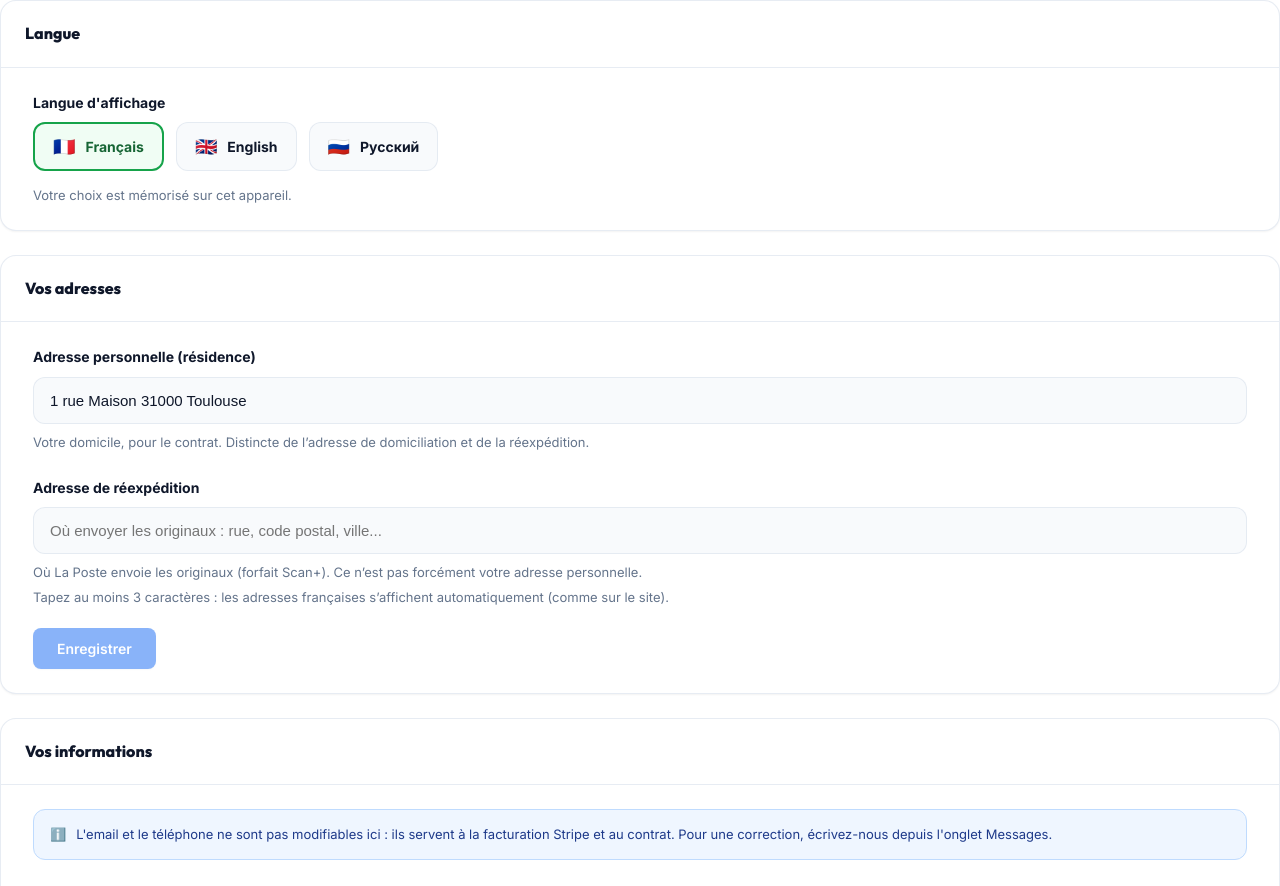
Test case: Paramètres — adresses distinctes › refuse d’enregistrer si le dossier n’est pas encore un client
Type "8 rue Reexp 75001 Paris" into the field with placeholder "Où envoyer les originaux : rue, code postal, ville..." at (640, 530), box [33,507,1247,554]
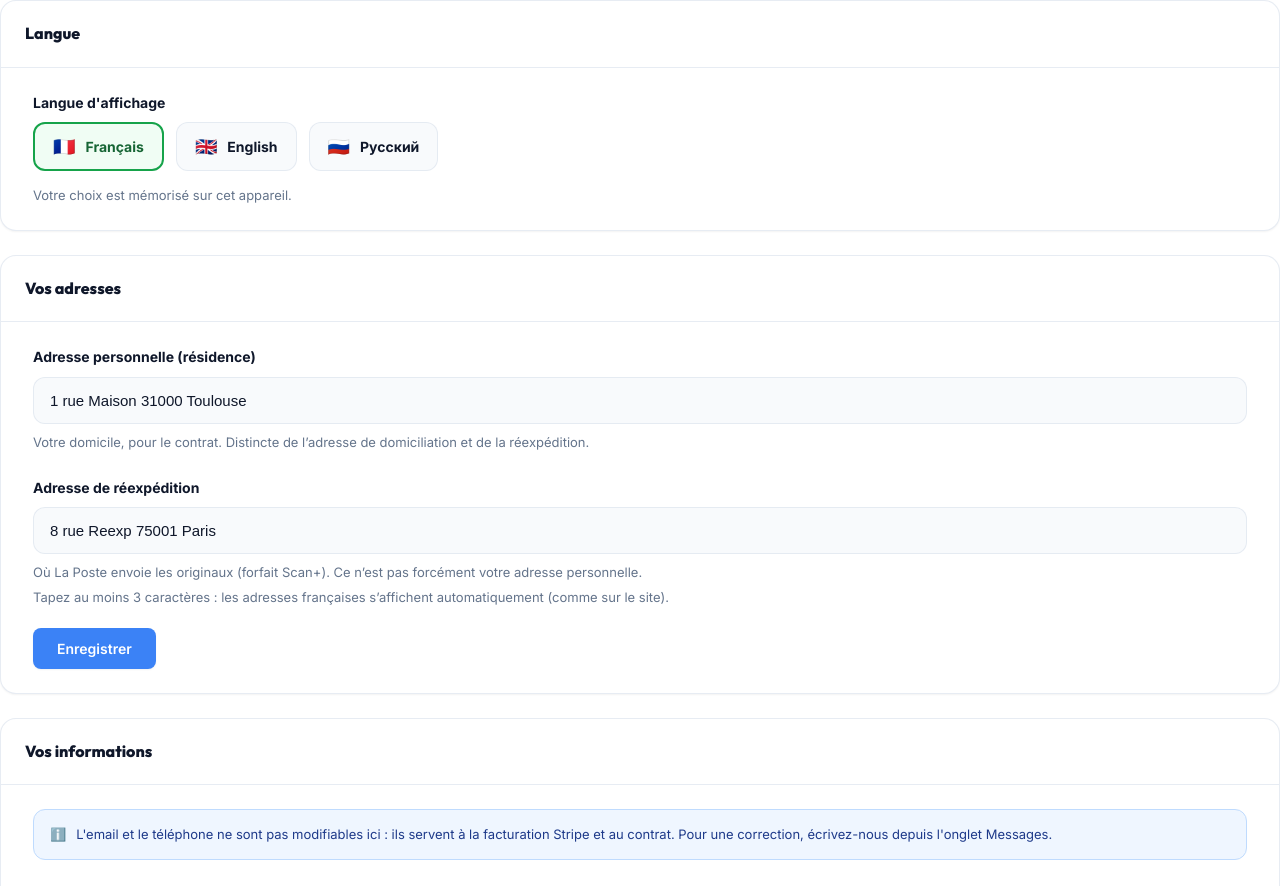
Click the button "Enregistrer" at (94, 648), box [33,628,156,668]
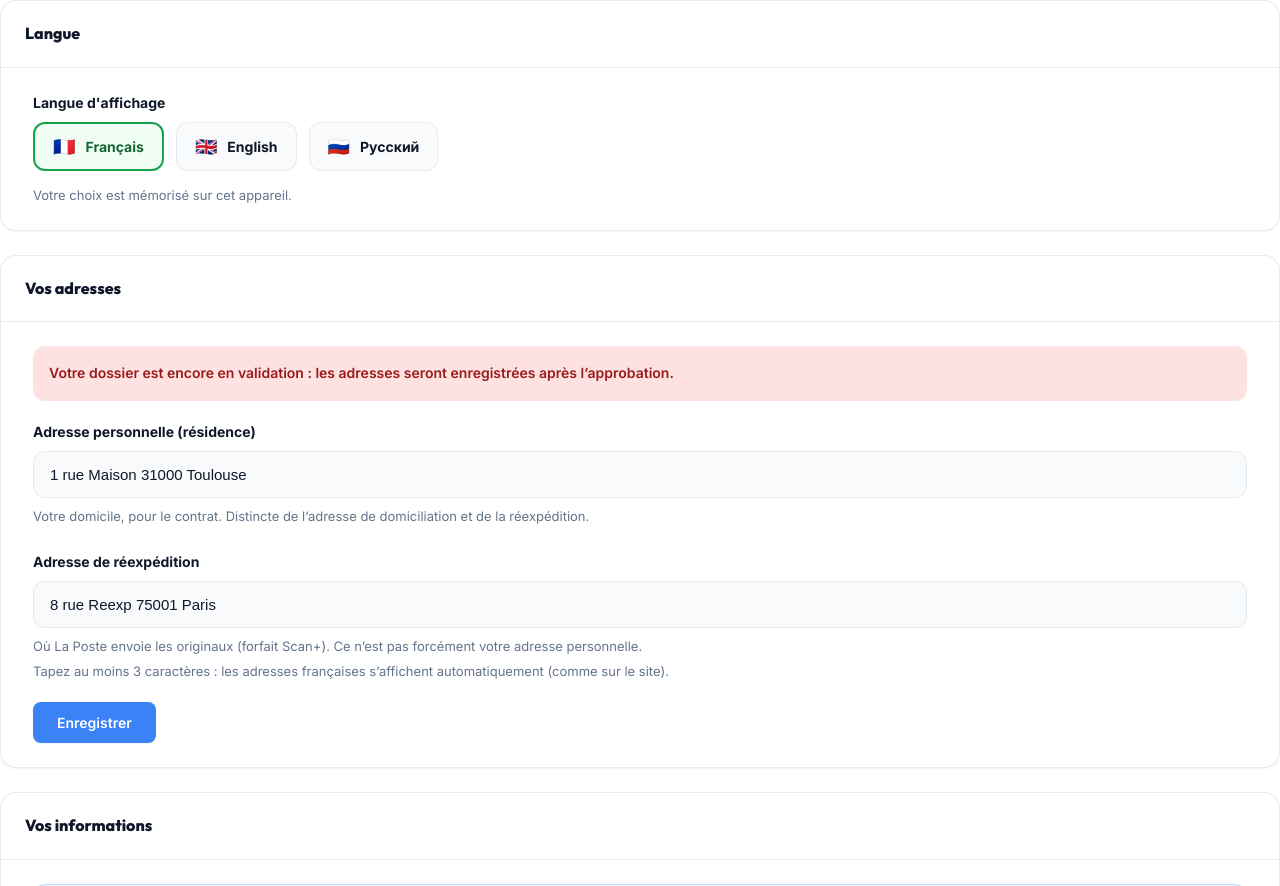
Now the text "encore en validation" is shown, box [49,364,674,381]
